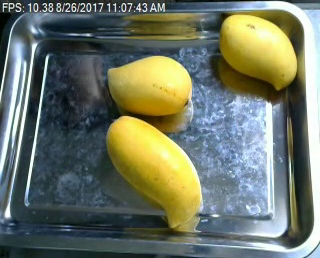Mango: (101, 114, 208, 232), (213, 9, 300, 91), (102, 52, 190, 116)
